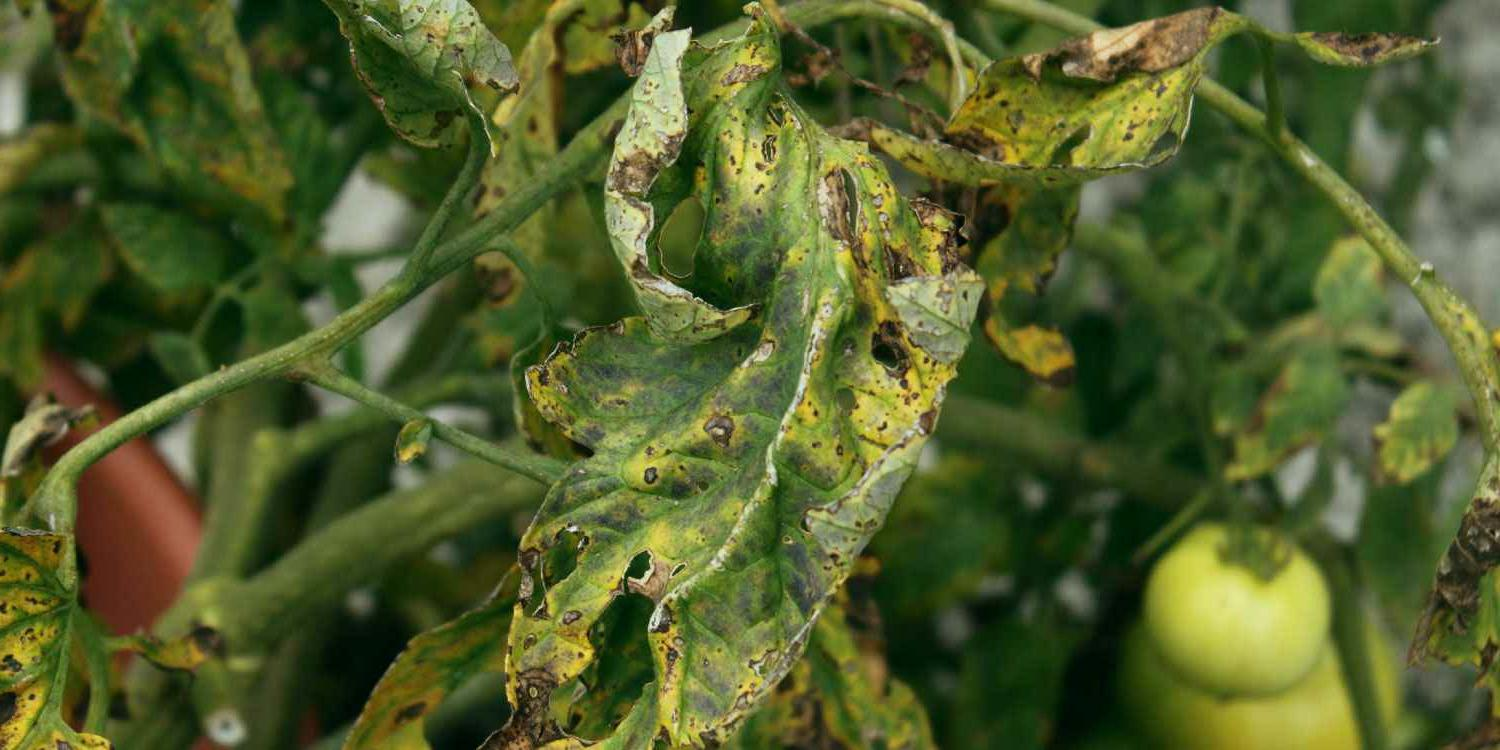Tomato Septoria leaf spot: (494, 24, 989, 750), (903, 19, 1323, 189)
